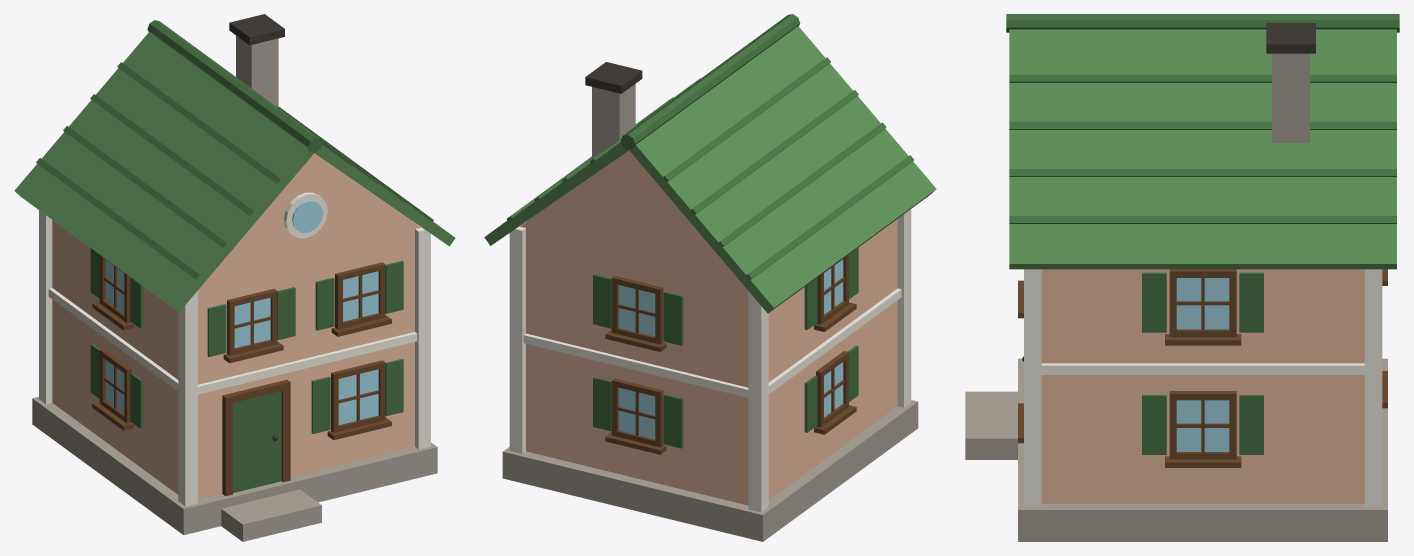
Rendered from house_4.glb.
3 renders of one model, left to right at view 1: azimuth 30°, elevation 25°; view 2: azimuth 150°, elevation 25°; view 3: azimuth 270°, elevation 25°, orthographic. The views are drawn at different scales.
Visible parts, largest first — view 1: House_4; view 2: House_4; view 3: House_4.
Part boxes in pixels (left/top/right/bottom): House_4: left=14, top=14, right=455, bottom=541; House_4: left=484, top=14, right=936, bottom=541; House_4: left=965, top=14, right=1399, bottom=541.
Bounding box in the file's own units: 6.79 × 8.78 × 7.4.
